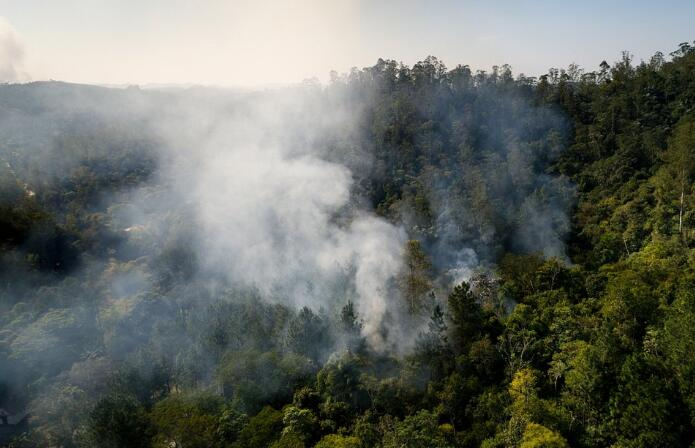smoke: (2, 1, 428, 346)
